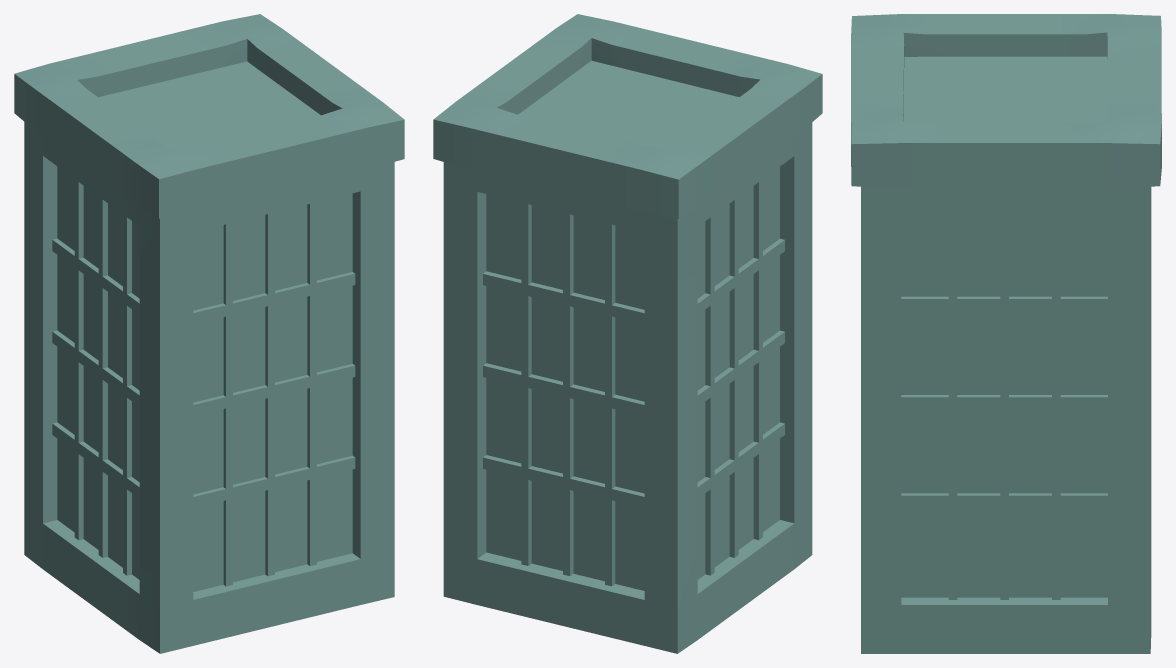
Rendered from building 8.fbx.
3 renders of one model, left to right at view 1: azimuth 30°, elevation 25°; view 2: azimuth 150°, elevation 25°; view 3: azimuth 270°, elevation 25°, orthographic. The views are drawn at different scales.
Visible parts, largest first — view 1: building 8; view 2: building 8; view 3: building 8.
Boxes of the visible parts, bbox=[...] form: building 8: bbox=[14, 14, 404, 653]; building 8: bbox=[433, 14, 822, 653]; building 8: bbox=[851, 14, 1161, 653].
Size of the model in its own units: 1885 by 3510 by 1916.
